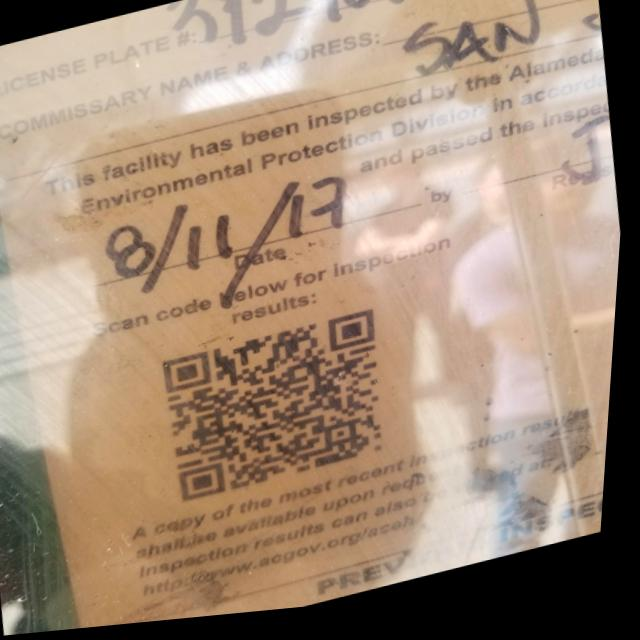QR_CODE: (140, 296, 415, 528)
